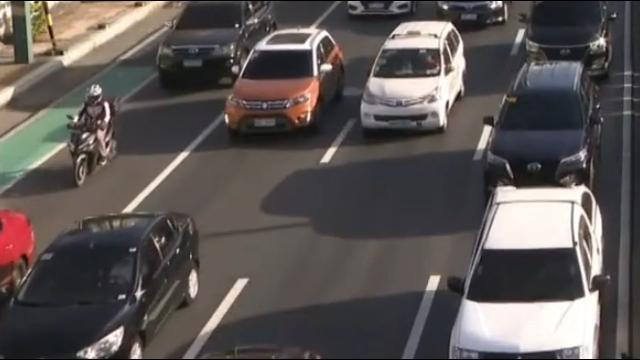car: (0, 211, 202, 360), (446, 185, 605, 360), (482, 61, 604, 194), (224, 27, 345, 144), (363, 19, 467, 134), (155, 0, 293, 86), (519, 0, 612, 80), (430, 0, 514, 26), (345, 0, 418, 17)
motorcycle: (64, 83, 118, 189)
